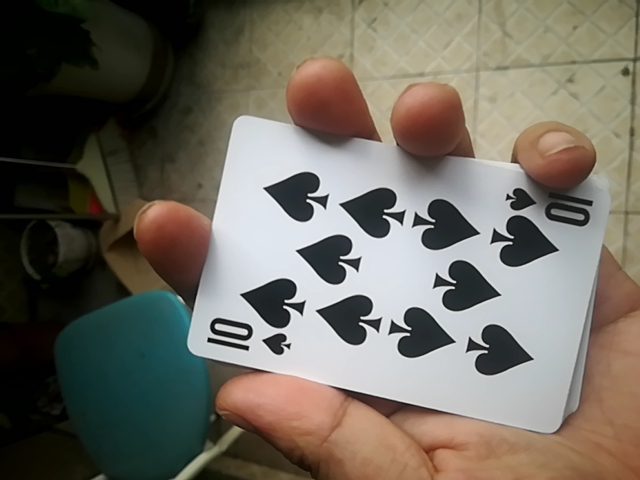ht 10: (175, 117, 613, 442)
